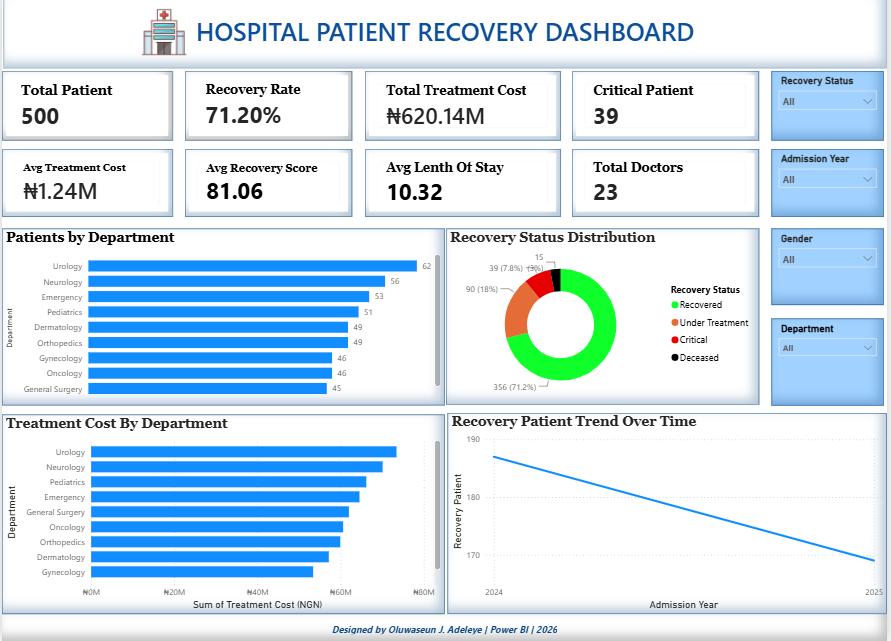

The page's visual inventory and layout, read from the dashboard file:
{"tool":"powerbi","page":{"name":"Page 1","canvas":[1280,1000],"ordinal":0},"visuals":[{"type":"cardVisual","fields":{"Data":["Measure.Average Treatment Cost"]},"box":[0,286.3,247.4,97.9],"z":0,"group":"g2"},{"type":"cardVisual","fields":{"Data":["Measure.Total Treatment Cost"]},"box":[525.8,172.9,283.5,100.5],"z":1000,"group":"g2"},{"type":"cardVisual","fields":{"Data":["Measure.Total Patient"]},"box":[0,172.9,247.4,100.5],"z":2000,"group":"g2"},{"type":"cardVisual","fields":{"Data":["Measure.Recovery Rate"]},"box":[265.5,172.9,242.3,100.5],"z":3000,"group":"g2"},{"type":"cardVisual","fields":{"Data":["Measure.Avg Lenth Of Stay"]},"box":[525.8,286.3,283.5,97.9],"z":4000,"group":"g2"},{"type":"cardVisual","fields":{"Data":["Measure.Total Doctors"]},"box":[824.7,286.3,270.6,97.9],"z":5000,"group":"g2"},{"type":"cardVisual","fields":{"Data":["Measure.Avg Recovery Score"]},"box":[265.5,286.3,242.3,97.9],"z":6000,"group":"g2"},{"type":"cardVisual","fields":{"Data":["Measure.Critical Patient"]},"box":[824.7,172.9,270.6,100.5],"z":7000,"group":"g2"},{"type":"clusteredBarChart","title":"Patients by Department","fields":{"Category":["Hospital Patient Recovery dataset.Department"],"Y":["CountNonNull(Hospital Patient Recovery dataset.Patient ID)"]},"box":[0,401.7,640.4,256.2],"z":8000,"group":"g2"},{"type":"donutChart","title":"Recovery Status Distribution","fields":{"Category":["Hospital Patient Recovery dataset.Recovery Status"],"Y":["Measure.Total Patient"]},"box":[641.7,402.3,453.6,255.1],"z":9000,"group":"g2"},{"type":"barChart","title":"Treatment Cost  By Department","fields":{"Y":["Sum(Hospital Patient Recovery dataset.Treatment Cost (NGN))"],"Category":["Hospital Patient Recovery dataset.Department"]},"box":[0,670.9,640.4,288.7],"z":10000,"group":"g2"},{"type":"lineChart","title":"Recovery Patient  Trend Over Time","fields":{"Category":["Hospital Patient Recovery dataset.Admission Year"],"Y":["Measure.Recovery Patient"]},"box":[644.7,668.8,636,290.9],"z":11000,"group":"g2"},{"type":"slicer","fields":{"Values":["Hospital Patient Recovery dataset.Department"]},"box":[1113.4,531.1,162.4,126.3],"z":12000,"group":"g2"},{"type":"slicer","fields":{"Values":["Hospital Patient Recovery dataset.Admission Year"]},"box":[1113.4,286.3,162.4,97.9],"z":13000,"group":"g2"},{"type":"slicer","fields":{"Values":["Hospital Patient Recovery dataset.Gender"]},"box":[1113.4,402.3,162.4,110.8],"z":14000,"group":"g2"},{"type":"slicer","fields":{"Values":["Hospital Patient Recovery dataset.Recovery Status"]},"box":[1113.4,172.9,162.4,100.5],"z":15000,"group":"g2"},{"type":"actionButton","box":[2.2,63,1278.6,106.4],"z":16000,"group":"g1"},{"type":"actionButton","box":[0,959,1280.9,38.7],"z":17000,"group":"g2"},{"type":"image","box":[160.7,76,147.6,82.5],"z":18000,"group":"g1"},{"type":"group","id":"g1","title":"Group 1","box":[2.2,63,1278.6,106.4],"z":18001,"group":"g2"},{"type":"group","id":"g2","title":"Group 2","box":[0,63,1280.9,934.6],"z":18002}]}

Visuals, with their boxes on the page's 1280x1000 design canvas (x1, y1, x2, y2). These are canvas units, not pixel positions in the 891x641 screenshot, which may show the page scaled, cropped or inside an application window:
cardVisual - Measure.Average Treatment Cost: [left=0, top=286, right=247, bottom=384]
cardVisual - Measure.Total Treatment Cost: [left=526, top=173, right=809, bottom=273]
cardVisual - Measure.Total Patient: [left=0, top=173, right=247, bottom=273]
cardVisual - Measure.Recovery Rate: [left=266, top=173, right=508, bottom=273]
cardVisual - Measure.Avg Lenth Of Stay: [left=526, top=286, right=809, bottom=384]
cardVisual - Measure.Total Doctors: [left=825, top=286, right=1095, bottom=384]
cardVisual - Measure.Avg Recovery Score: [left=266, top=286, right=508, bottom=384]
cardVisual - Measure.Critical Patient: [left=825, top=173, right=1095, bottom=273]
"Patients by Department" clusteredBarChart: [left=0, top=402, right=640, bottom=658]
"Recovery Status Distribution" donutChart: [left=642, top=402, right=1095, bottom=657]
"Treatment Cost  By Department" barChart: [left=0, top=671, right=640, bottom=960]
"Recovery Patient  Trend Over Time" lineChart: [left=645, top=669, right=1281, bottom=960]
slicer - Hospital Patient Recovery dataset.Department: [left=1113, top=531, right=1276, bottom=657]
slicer - Hospital Patient Recovery dataset.Admission Year: [left=1113, top=286, right=1276, bottom=384]
slicer - Hospital Patient Recovery dataset.Gender: [left=1113, top=402, right=1276, bottom=513]
slicer - Hospital Patient Recovery dataset.Recovery Status: [left=1113, top=173, right=1276, bottom=273]
actionButton: [left=2, top=63, right=1281, bottom=169]
actionButton: [left=0, top=959, right=1281, bottom=998]
image: [left=161, top=76, right=308, bottom=158]
"Group 1" group: [left=2, top=63, right=1281, bottom=169]
"Group 2" group: [left=0, top=63, right=1281, bottom=998]
